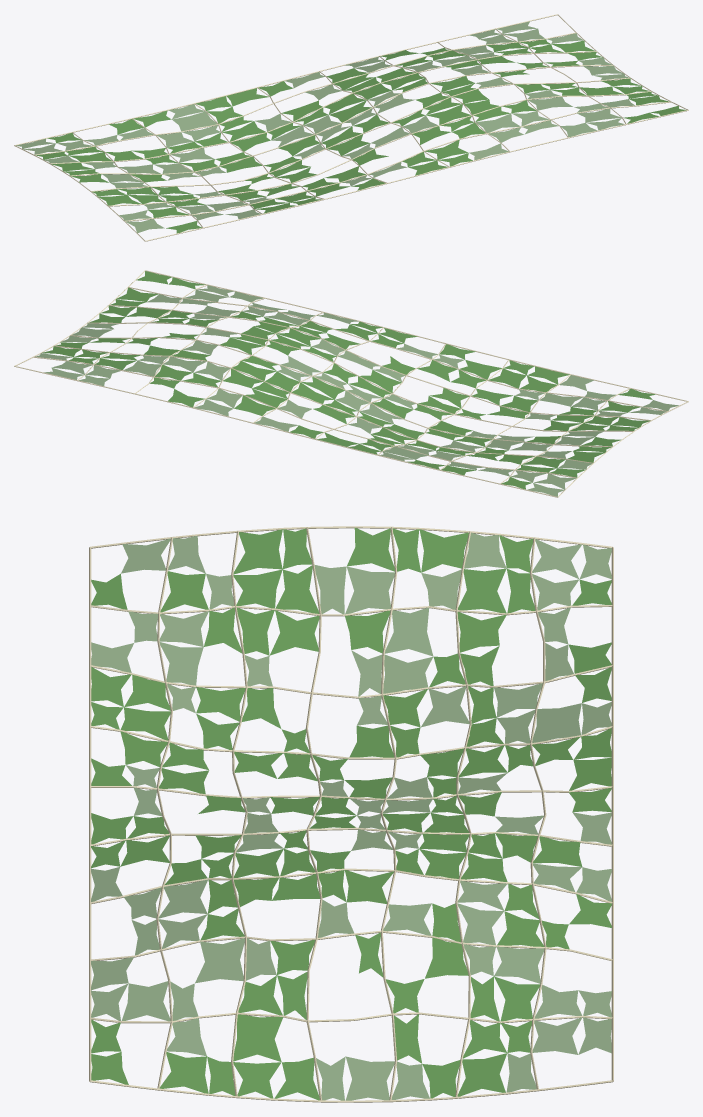
File: Camo_Cloth_Long.fbx
The picture shows the model from 3 angles, top to bottom: view 1: azimuth 30°, elevation 25°; view 2: azimuth 150°, elevation 25°; view 3: azimuth 270°, elevation 25°; orthographic projection. The views are drawn at different scales.
Parts seen in each view (by area): view 1: Camo_Cloth_Long; view 2: Camo_Cloth_Long; view 3: Camo_Cloth_Long.
Boxes of the visible parts, x1=… form: Camo_Cloth_Long: x1=14, y1=14, x2=688, y2=241; Camo_Cloth_Long: x1=14, y1=270, x2=688, y2=497; Camo_Cloth_Long: x1=89, y1=526, x2=613, y2=1102.
Bounding box in the file's own units: 601 × 33.98 × 251.
